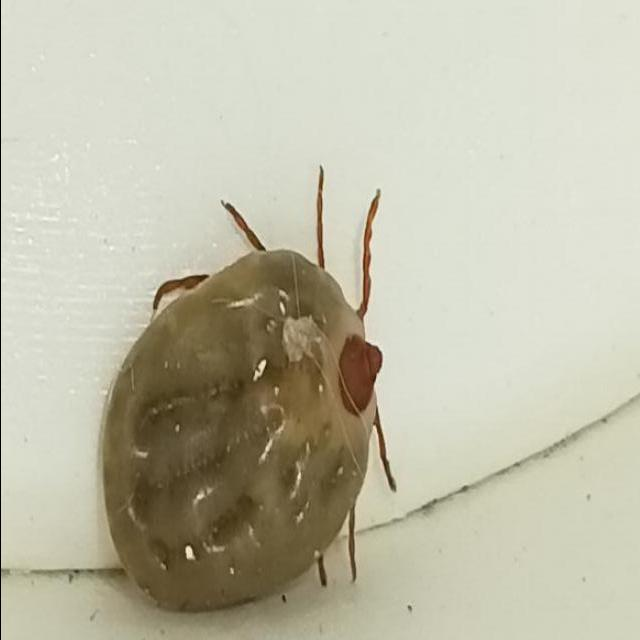Rhipicephalus Sanguineus-F-Fed: (95, 166, 394, 617)
